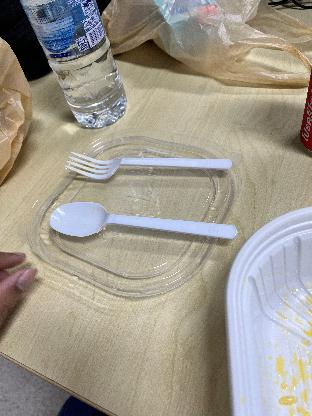Others: (48, 194, 240, 249), (56, 140, 238, 188)
Plastic Bottle: (16, 0, 130, 126)
